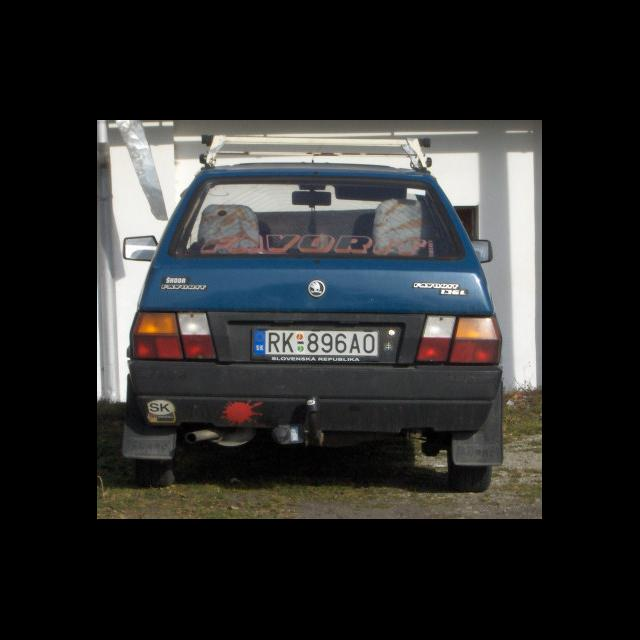Plate: (254, 329, 380, 362)
